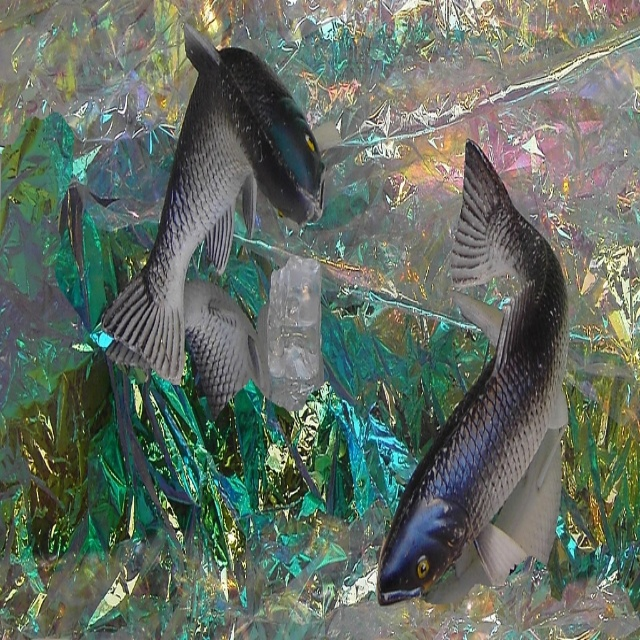Fish: (377, 124, 572, 612), (97, 15, 341, 386)
